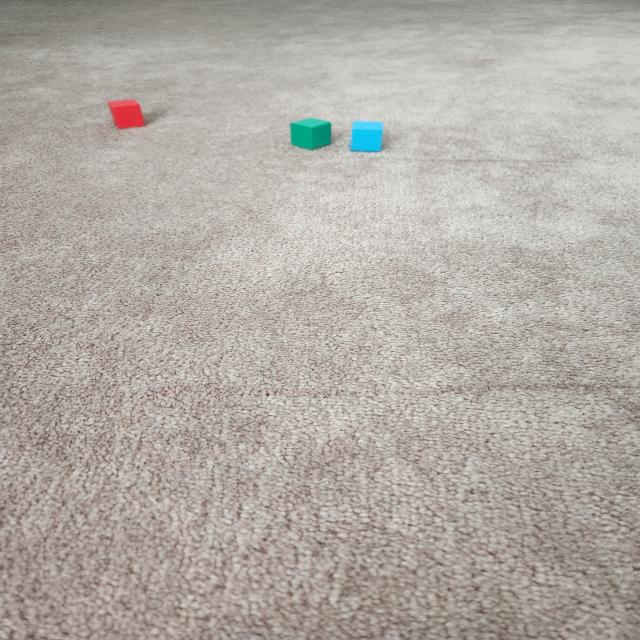bluecube: (353, 120, 384, 153)
green cube: (290, 117, 332, 150)
red cube: (108, 99, 145, 128)
